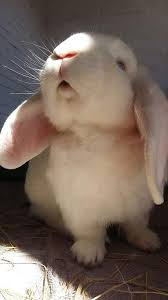bunny: (2, 31, 168, 267)
